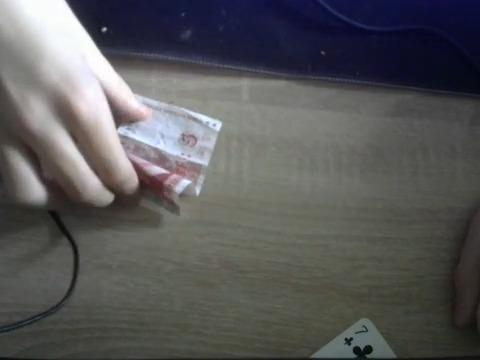5leva: (117, 95, 222, 213), (118, 95, 222, 212)
